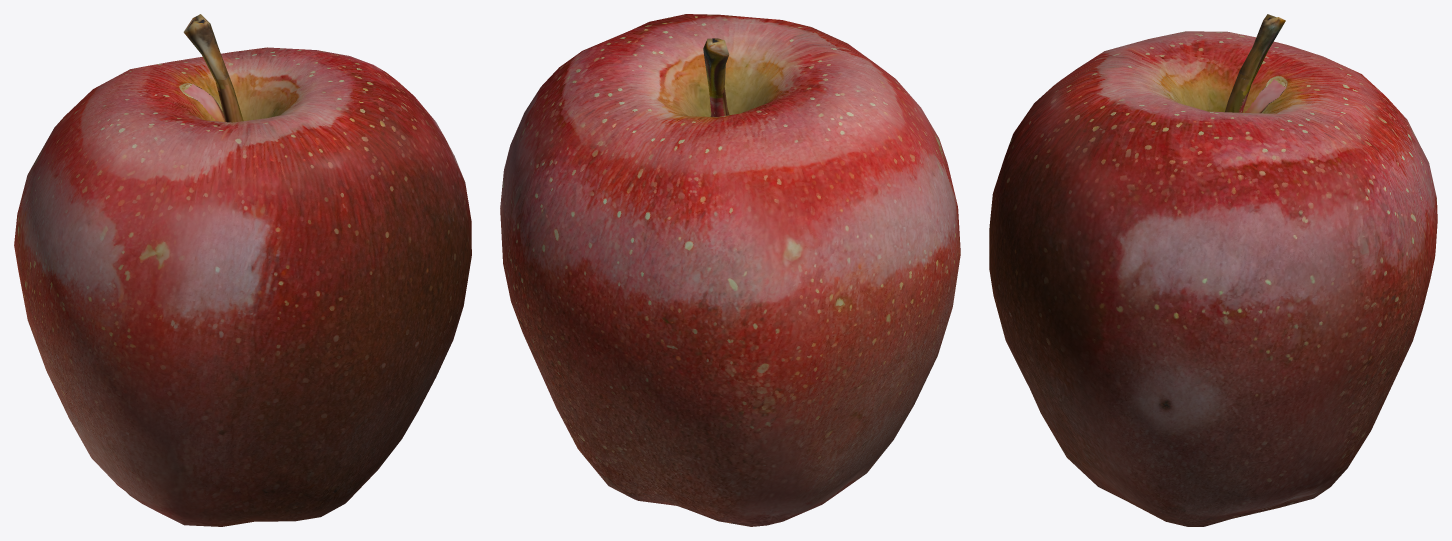
The picture shows the model from 3 angles, left to right: view 1: azimuth 30°, elevation 25°; view 2: azimuth 150°, elevation 25°; view 3: azimuth 270°, elevation 25°; orthographic projection. The views are drawn at different scales.
Visible parts, largest first — view 1: texture_mapping; view 2: texture_mapping; view 3: texture_mapping.
Part boxes in pixels (x1=…): texture_mapping: x1=14, y1=14, x2=471, y2=526; texture_mapping: x1=500, y1=14, x2=960, y2=526; texture_mapping: x1=989, y1=14, x2=1437, y2=526.
Bounding box in the file's own units: 0.905 × 0.9951 × 0.8749.
Materials: 1 (1 with a texture image).
